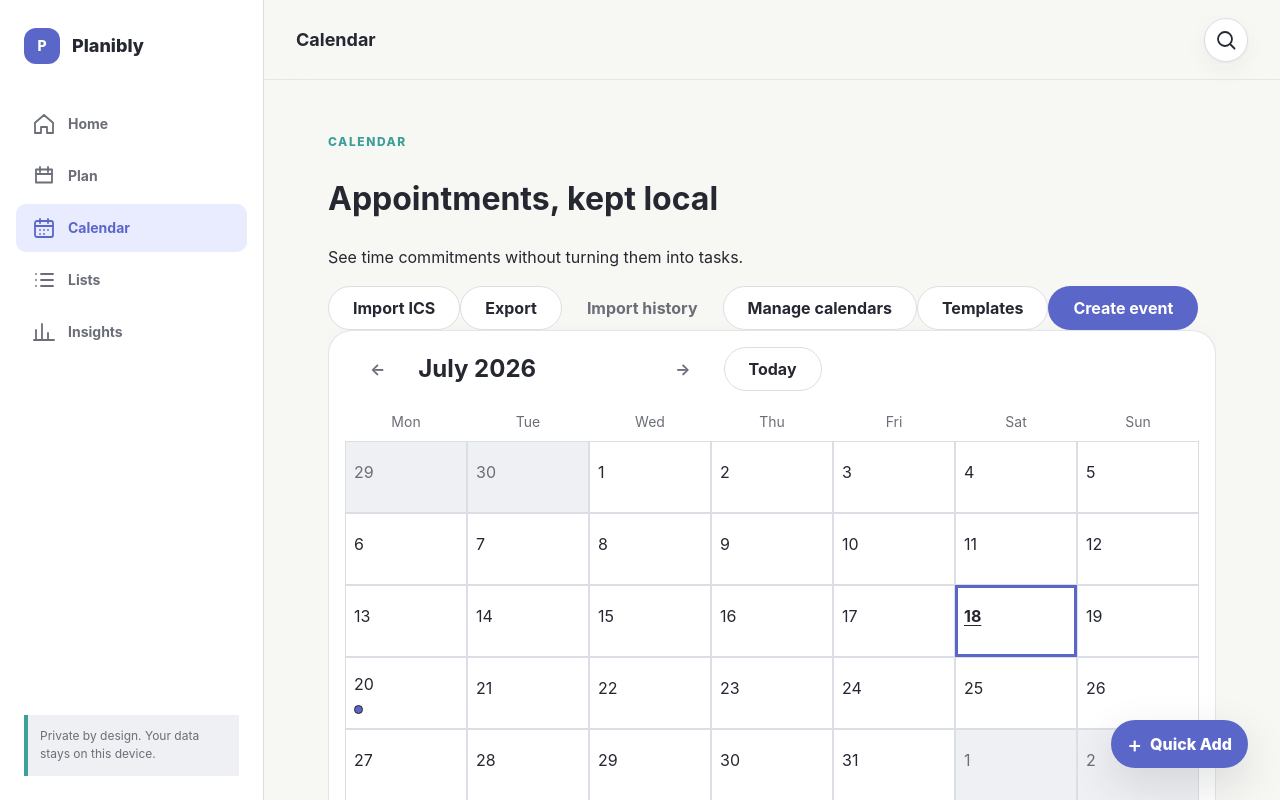
Test case: Phase 3A Calendar workspace › prepares a validated one-event export and explains that it is not synchronisation
Expected: the heading "Appointments, kept local" is shown, [328,179,718,218]
Click the button "Export".
click(511, 308)  # box [460,286,562,330]
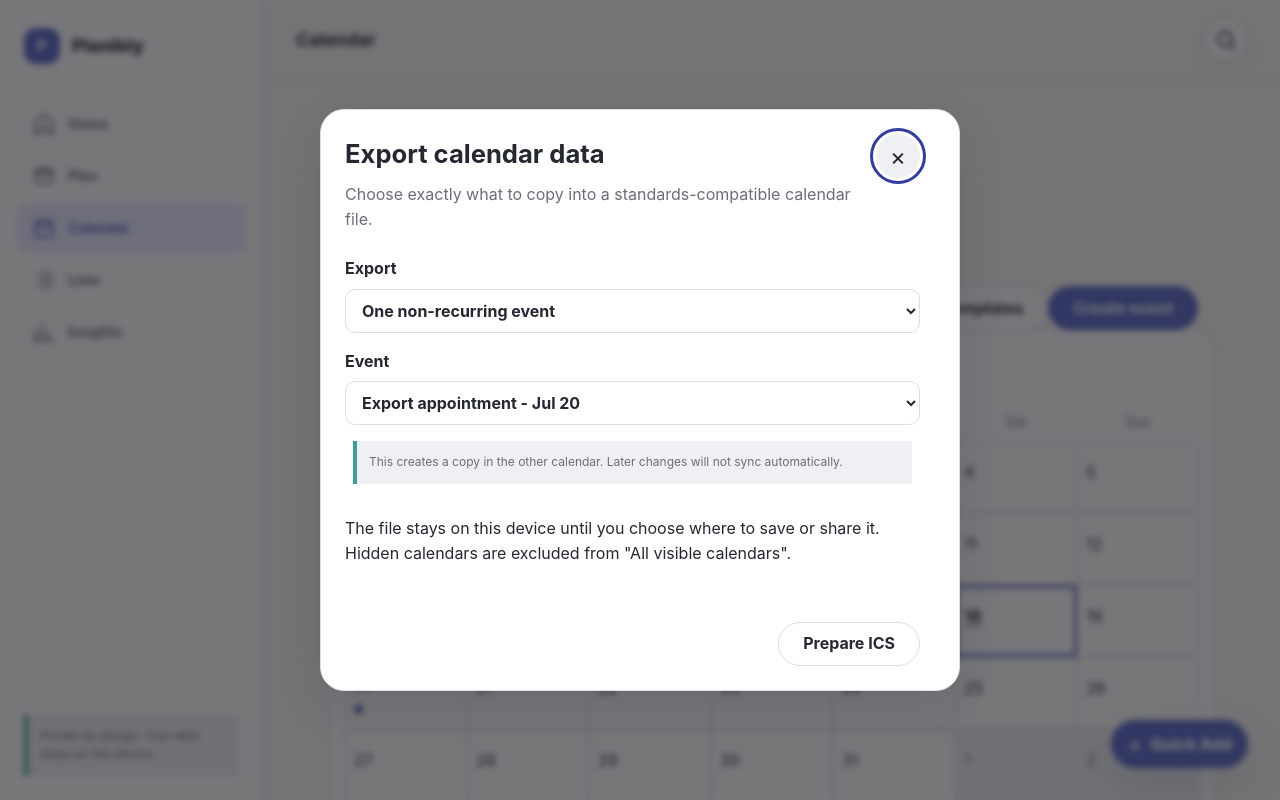
Now the text "Later changes will not sync automatically" is shown, box [369,454,843,469]
Click the button "Prepare ICS".
click(849, 644)  # box [778,622,920,666]
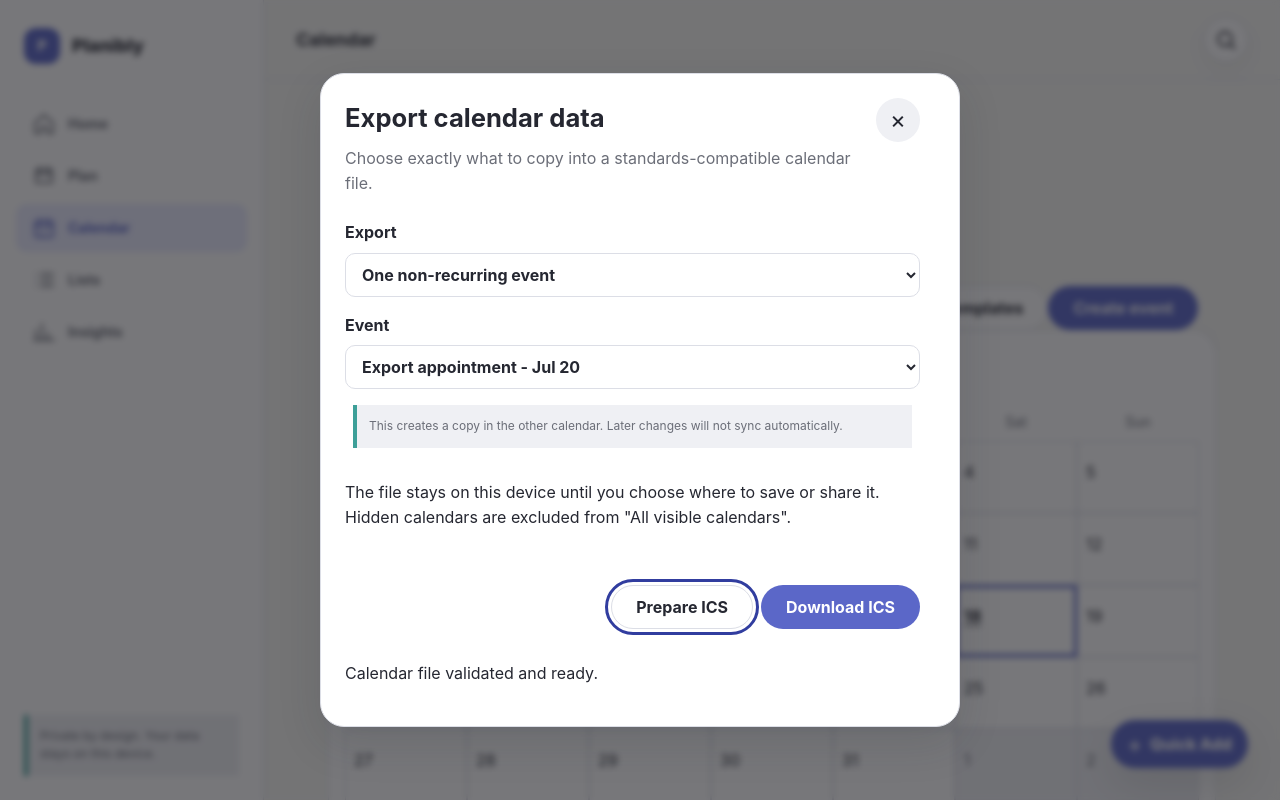
Now the text "Calendar file validated and ready." is shown, box [345,663,598,683]
Now the button "Download ICS" is enabled, box [761,585,920,629]
